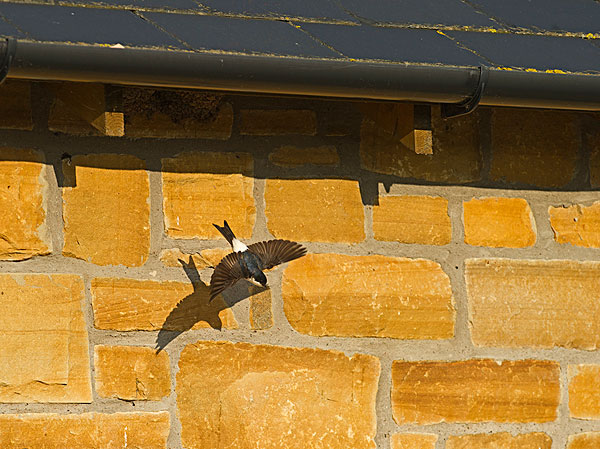bird-nest: (111, 84, 232, 129)
